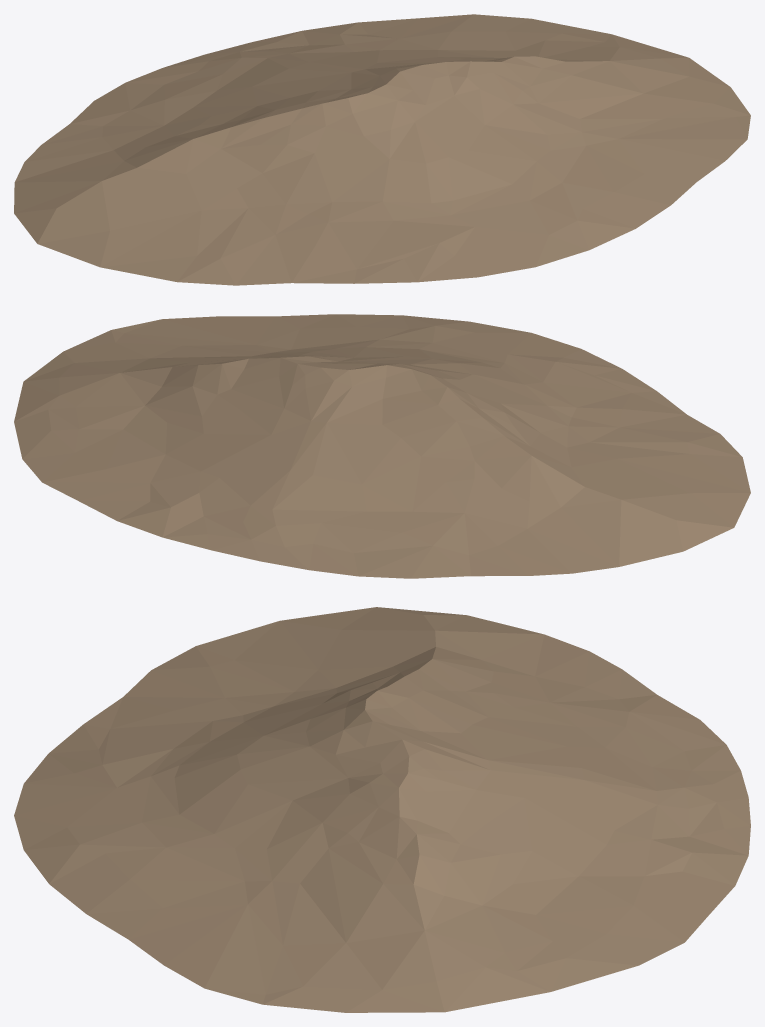
File: SM_Env_SandDunes_01.glb
3 renders of one model, top to bottom at view 1: azimuth 30°, elevation 25°; view 2: azimuth 150°, elevation 25°; view 3: azimuth 270°, elevation 25°, orthographic. The views are drawn at different scales.
Parts seen in each view (by area): view 1: SM_Env_SandDunes_01; view 2: SM_Env_SandDunes_01; view 3: SM_Env_SandDunes_01.
Part boxes in pixels (box(x1,y1,x2,y2)): SM_Env_SandDunes_01: box(14, 14, 750, 285); SM_Env_SandDunes_01: box(14, 314, 750, 578); SM_Env_SandDunes_01: box(14, 607, 750, 1012).
Bounding box in the file's own units: 72.56 × 7.74 × 55.67.
1 material, 1 textured.
